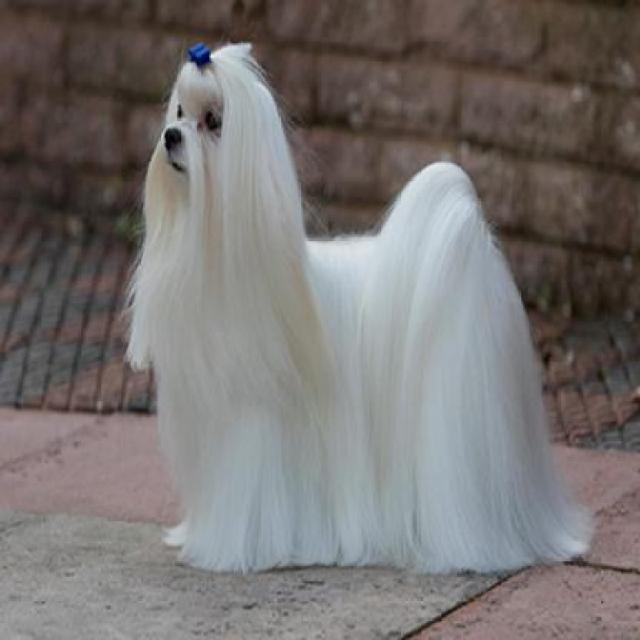Dog: (119, 22, 602, 576)
